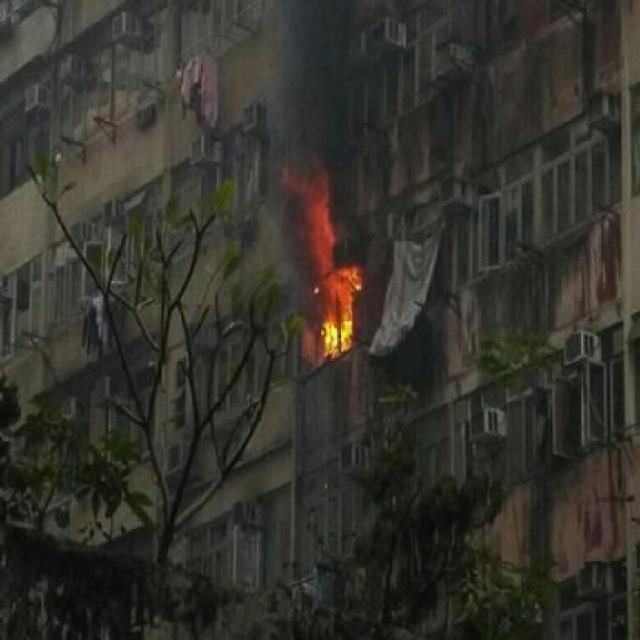Fire: (287, 162, 372, 369)
